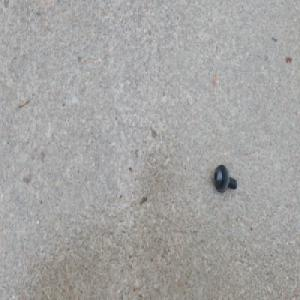BoltWasher: (213, 162, 238, 192)
